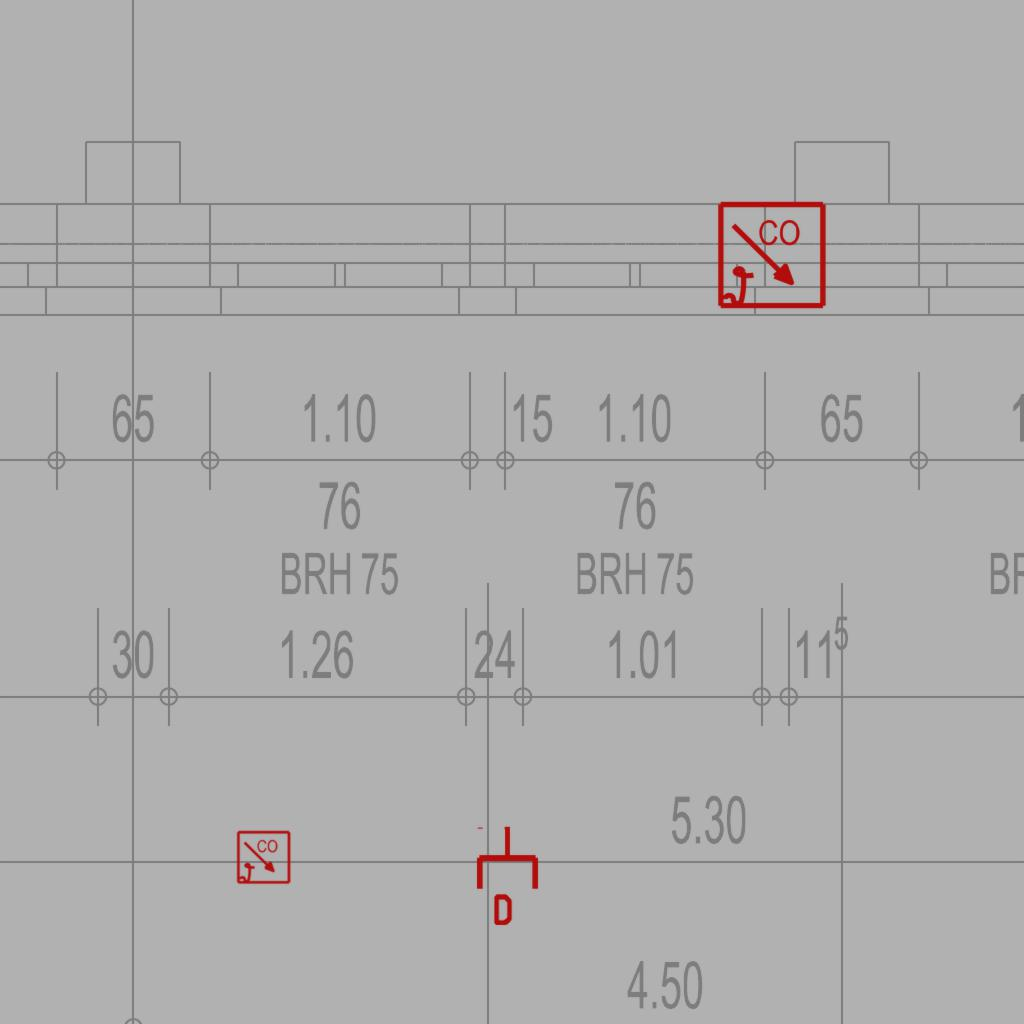Datenanschluss_einfach: (473, 825, 542, 925)
ROA_Rauchmelder_optisch_mit_Signalgeber_(Sockelsirene): (716, 200, 829, 313), (236, 830, 292, 886)
